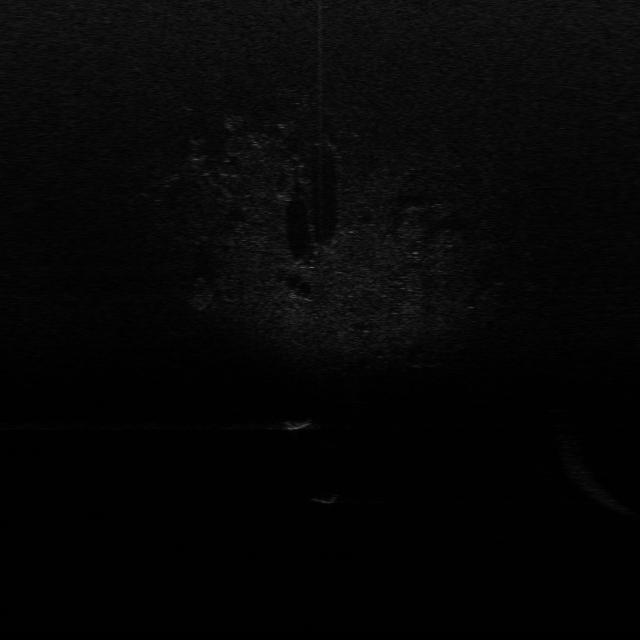cube: (308, 490, 343, 505)
square cage: (280, 416, 314, 433)
